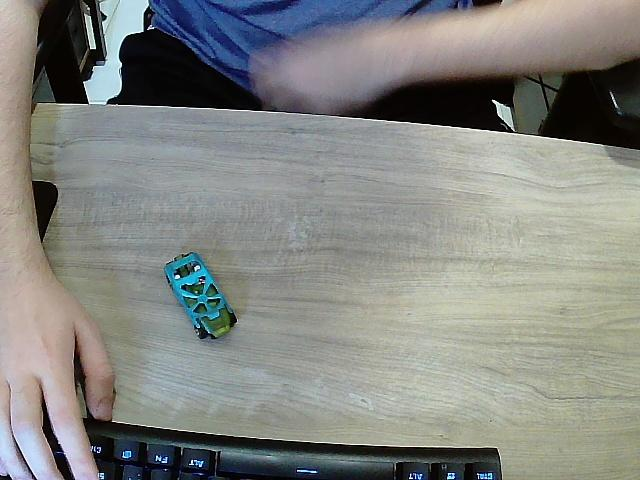Carro: (164, 253, 236, 341)
